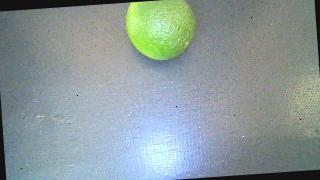EXPORTACION: (123, 0, 197, 62)
